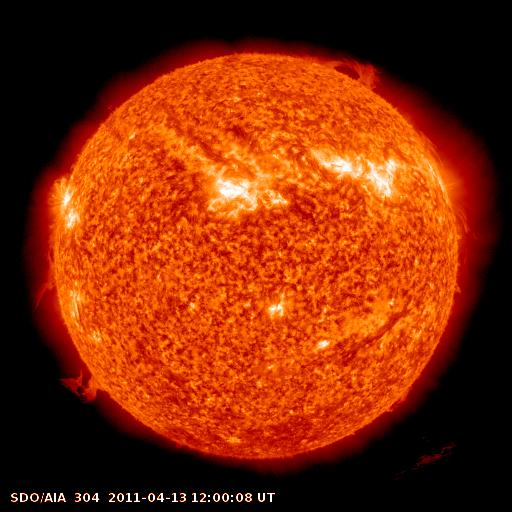prominence: (23, 229, 66, 312), (316, 47, 383, 99), (51, 363, 112, 412), (439, 189, 481, 243), (379, 378, 420, 425), (411, 121, 450, 165)
